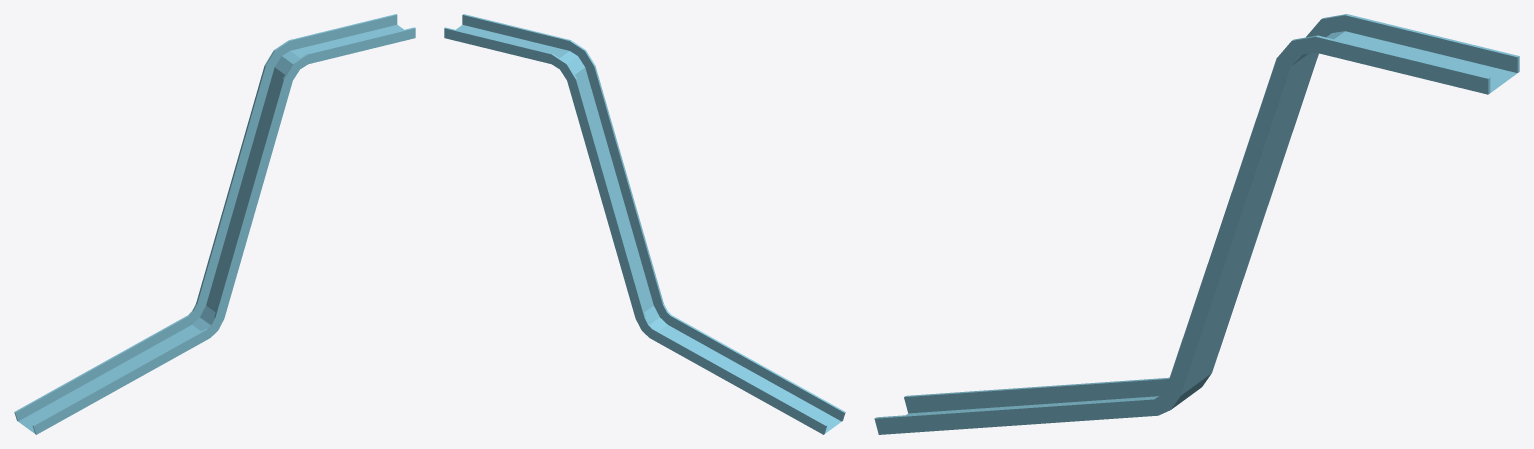
The model's file is water_ride.fbx.
3 views of the same model, side by side, from view 1: azimuth 30°, elevation 25°; view 2: azimuth 150°, elevation 25°; view 3: azimuth 330°, elevation 25° (orthographic). The views are drawn at different scales.
Parts seen in each view (by area): view 1: Plane; view 2: Plane; view 3: Plane.
Part boxes in pixels (left/top/right/bottom): Plane: left=14, top=14, right=415, bottom=434; Plane: left=444, top=14, right=845, bottom=434; Plane: left=874, top=14, right=1519, bottom=434.
Size of the model in its own units: 2270 by 1784 by 200.
